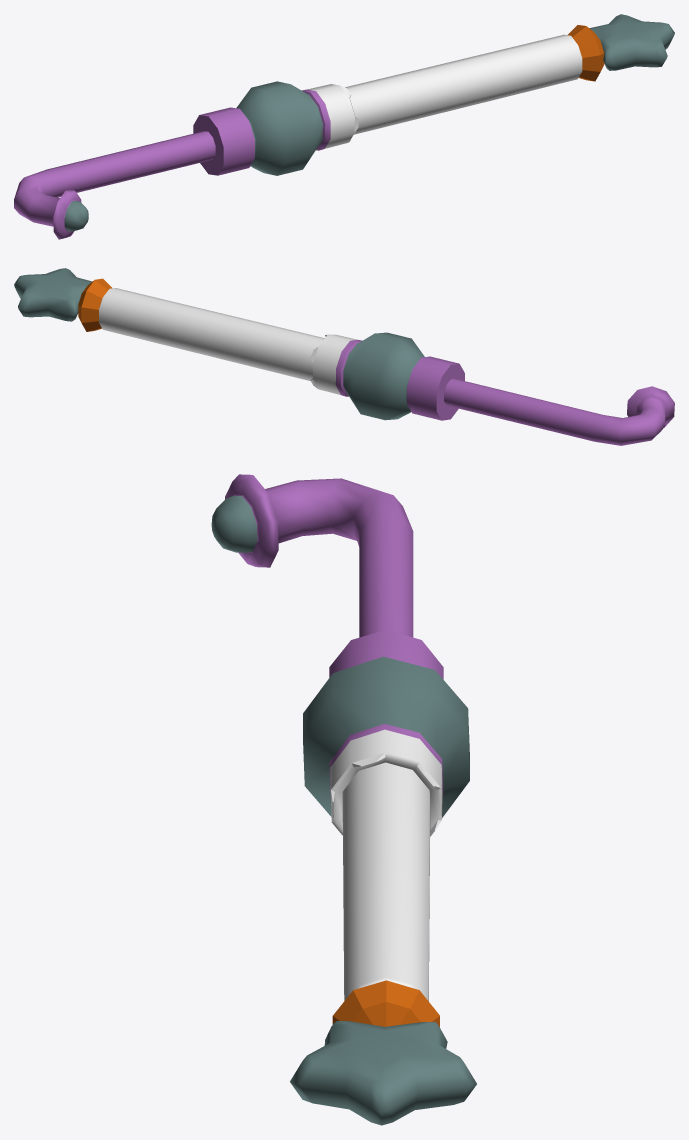
3 renders of one model, top to bottom at view 1: azimuth 30°, elevation 25°; view 2: azimuth 150°, elevation 25°; view 3: azimuth 270°, elevation 25°, orthographic. The views are drawn at different scales.
Visible parts, largest first — view 1: 키라키라프리큐어아라모드덩실덩실; view 2: 키라키라프리큐어아라모드덩실덩실; view 3: 키라키라프리큐어아라모드덩실덩실.
Part boxes in pixels (box(x1,y1,x2,y2)): 키라키라프리큐어아라모드덩실덩실: box(14, 14, 674, 239); 키라키라프리큐어아라모드덩실덩실: box(14, 268, 674, 445); 키라키라프리큐어아라모드덩실덩실: box(211, 474, 476, 1125).
Size of the model in its own units: 9.13 by 1.09 by 1.66.
